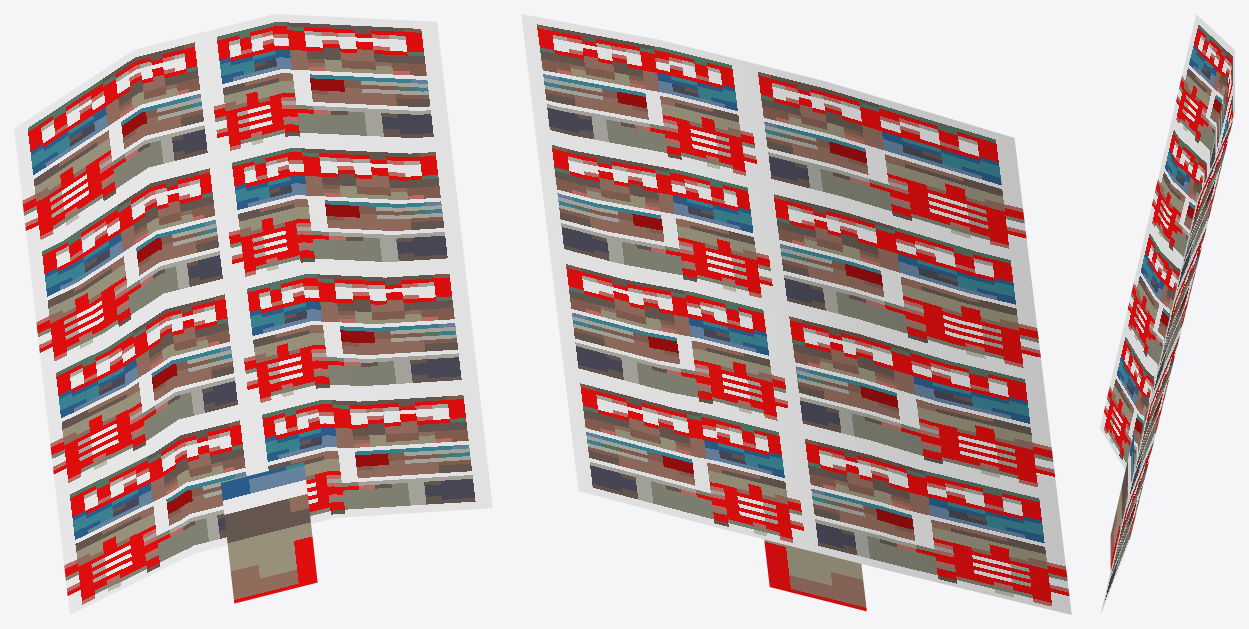
Rendered from 2764itazura0.gltf.
3 views of the same model, side by side, from view 1: azimuth 30°, elevation 25°; view 2: azimuth 150°, elevation 25°; view 3: azimuth 270°, elevation 25° (orthographic). The views are drawn at different scales.
Visible parts, largest first — view 1: 2764itazura0; view 2: 2764itazura0; view 3: 2764itazura0.
Part boxes in pixels (left/top/right/bottom): 2764itazura0: left=14, top=14, right=492, bottom=614; 2764itazura0: left=521, top=14, right=1071, bottom=614; 2764itazura0: left=1100, top=14, right=1234, bottom=612.
Bounding box in the file's own units: 0.4559 × 0.5245 × 0.1359.
1 material, 1 textured.
